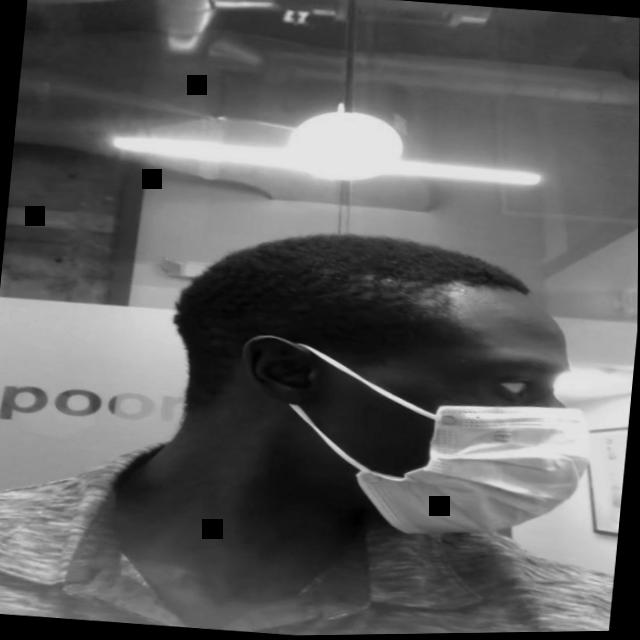Mask: (234, 268, 601, 552)
